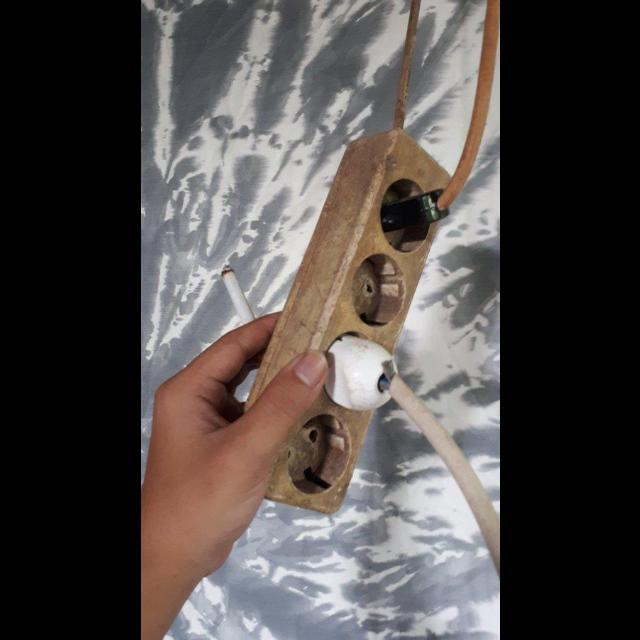rokok: (218, 256, 260, 324)
